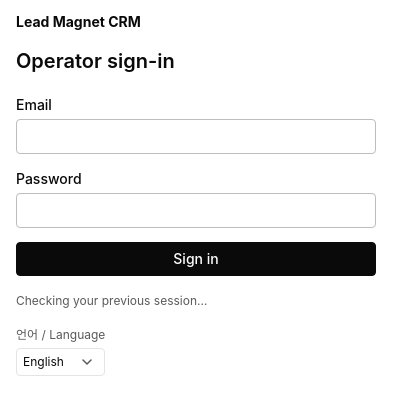
Test: 영어 화면 › 로그인 화면을 영어로 보여주고, 자체 언어 선택으로 바꿀 수 있다
This screenshot has width=393, height=393.
Check: the heading "Operator sign-in" is shown, box [16,48,175,72]
Check: the field labelled "Email" is shown, box [16,118,376,154]
Select "한국어" in the dropdown labelled "언어 / Language": (61, 362) [16,348,105,376]
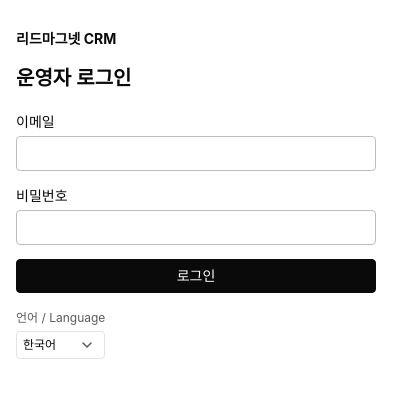
Check: the heading "운영자 로그인" is shown, box [16,66,132,90]
